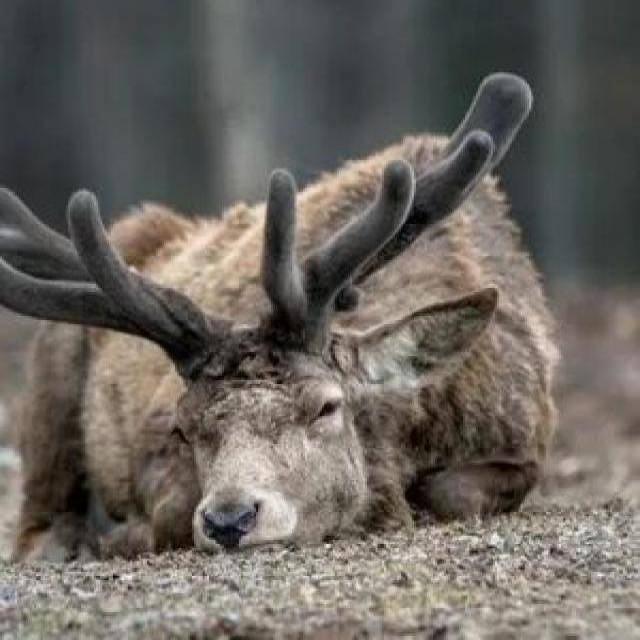deer: (34, 92, 576, 535)
